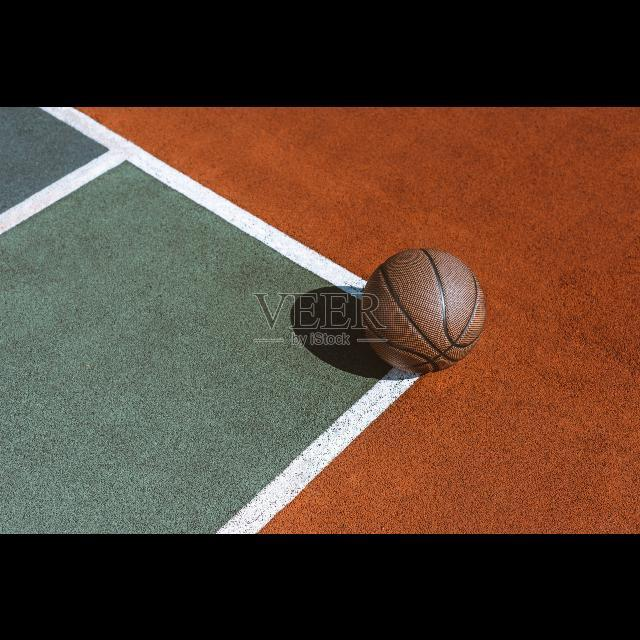basketball: (362, 248, 486, 374)
